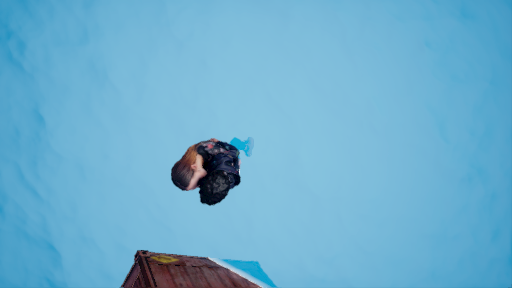person: (167, 128, 250, 207)
